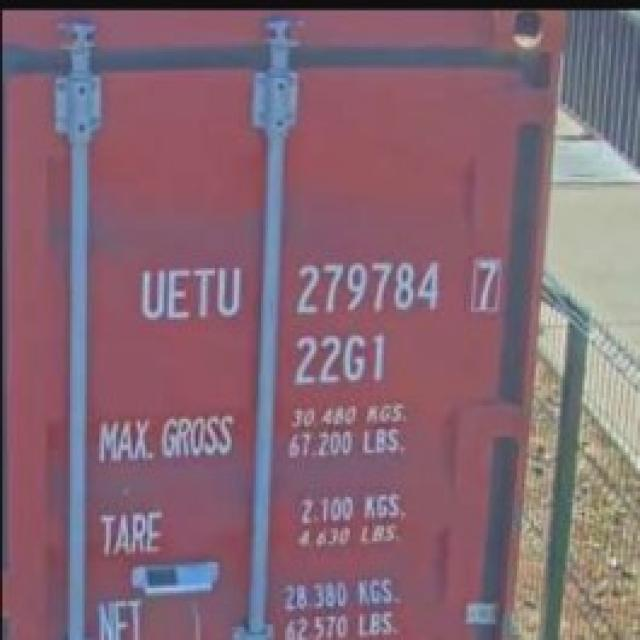dv: (461, 254, 508, 316)
owner: (132, 260, 246, 330)
serial: (286, 249, 445, 322)
size: (287, 328, 395, 390)
